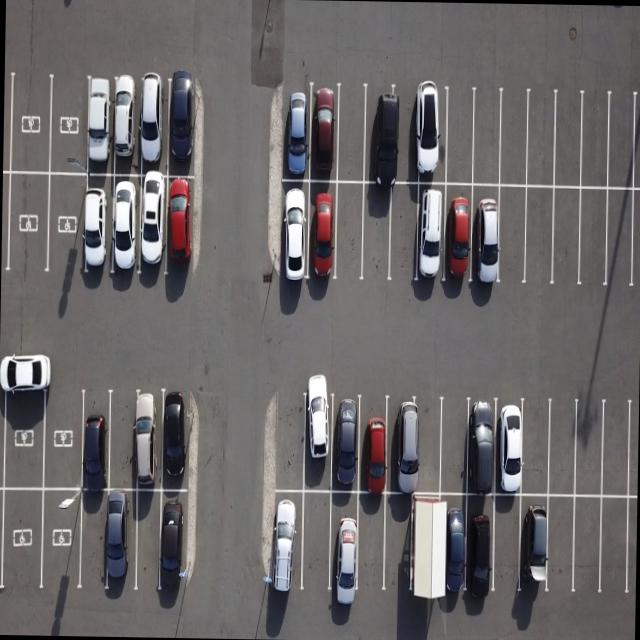car: (267, 487, 308, 597), (406, 496, 444, 606), (462, 493, 500, 602), (121, 391, 162, 492), (362, 84, 404, 182), (326, 486, 363, 596), (420, 494, 456, 606), (157, 490, 195, 595), (434, 494, 469, 604), (105, 490, 142, 594), (164, 174, 202, 274), (306, 181, 342, 285), (134, 172, 170, 276), (280, 177, 314, 287), (463, 400, 501, 498), (387, 396, 425, 494), (158, 394, 195, 494), (354, 396, 392, 493), (328, 393, 366, 490), (518, 490, 553, 594), (468, 183, 503, 287), (438, 184, 473, 288), (412, 88, 449, 186), (414, 182, 449, 285), (78, 172, 112, 278), (300, 392, 336, 491), (489, 398, 526, 494), (110, 172, 144, 276), (78, 388, 112, 491), (308, 84, 342, 185), (135, 78, 168, 176), (167, 78, 199, 176), (83, 78, 115, 174), (284, 84, 314, 182), (113, 79, 142, 176)
free: (0, 372, 44, 492), (42, 380, 87, 490), (4, 170, 47, 278), (47, 170, 88, 280), (40, 490, 84, 592), (8, 70, 50, 174), (0, 489, 41, 594), (50, 75, 90, 175), (540, 494, 578, 598), (300, 489, 336, 598), (108, 392, 146, 493), (488, 489, 524, 595), (352, 493, 388, 598), (334, 82, 371, 182), (332, 182, 368, 284), (568, 490, 604, 592), (270, 394, 308, 490), (494, 181, 528, 286), (606, 187, 640, 292), (376, 492, 411, 594), (434, 398, 471, 494), (130, 489, 164, 593), (574, 92, 610, 190), (570, 400, 606, 498), (574, 185, 608, 288), (76, 489, 110, 592), (384, 183, 419, 283), (544, 400, 580, 497), (598, 496, 632, 598), (520, 398, 555, 496), (524, 186, 558, 286), (412, 400, 446, 498), (358, 184, 392, 282), (440, 90, 474, 187), (470, 90, 504, 187), (601, 400, 634, 498), (550, 185, 582, 286), (526, 92, 560, 187), (495, 91, 528, 187), (608, 90, 640, 188), (552, 92, 584, 188), (392, 88, 421, 188)
